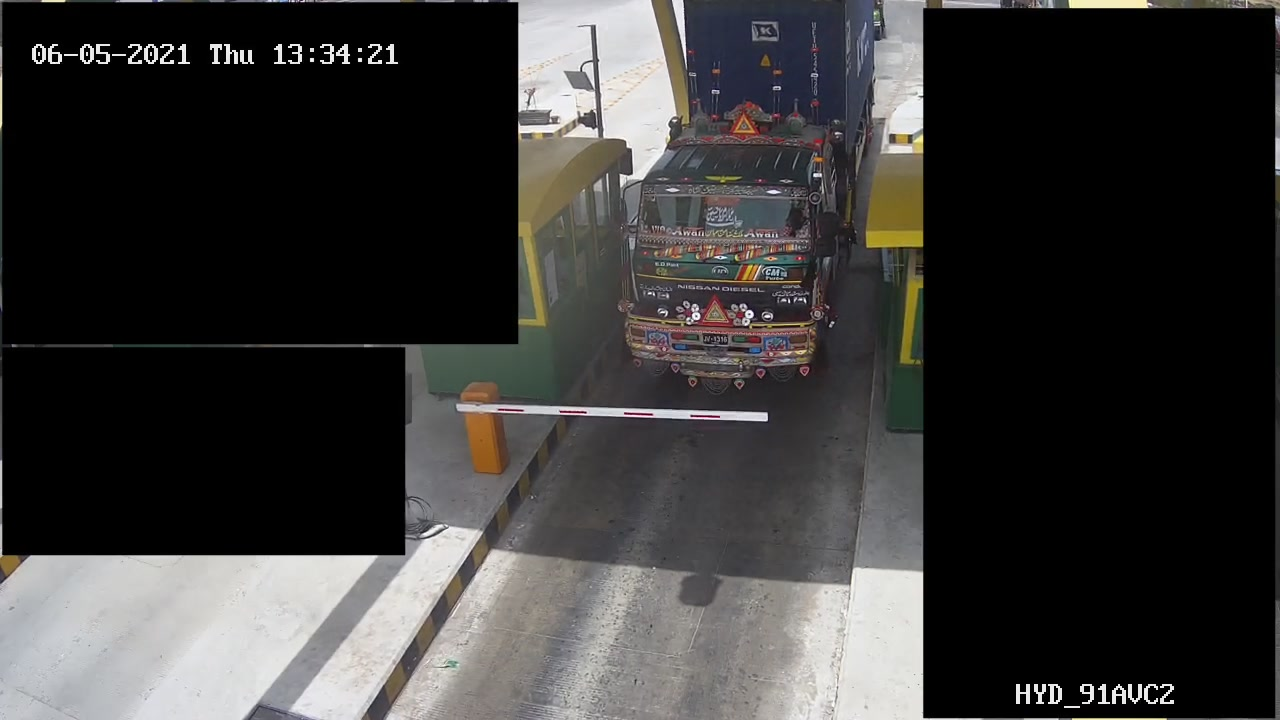F6: (618, 1, 879, 386)
